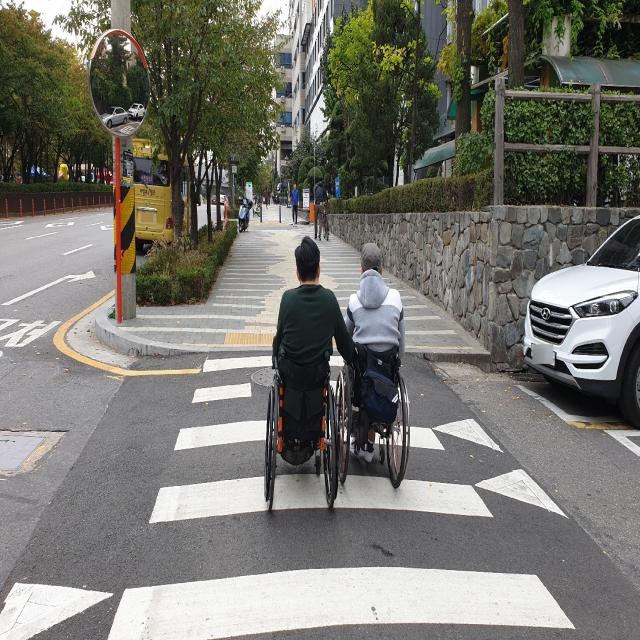횡단보도: (102, 345, 577, 640)
